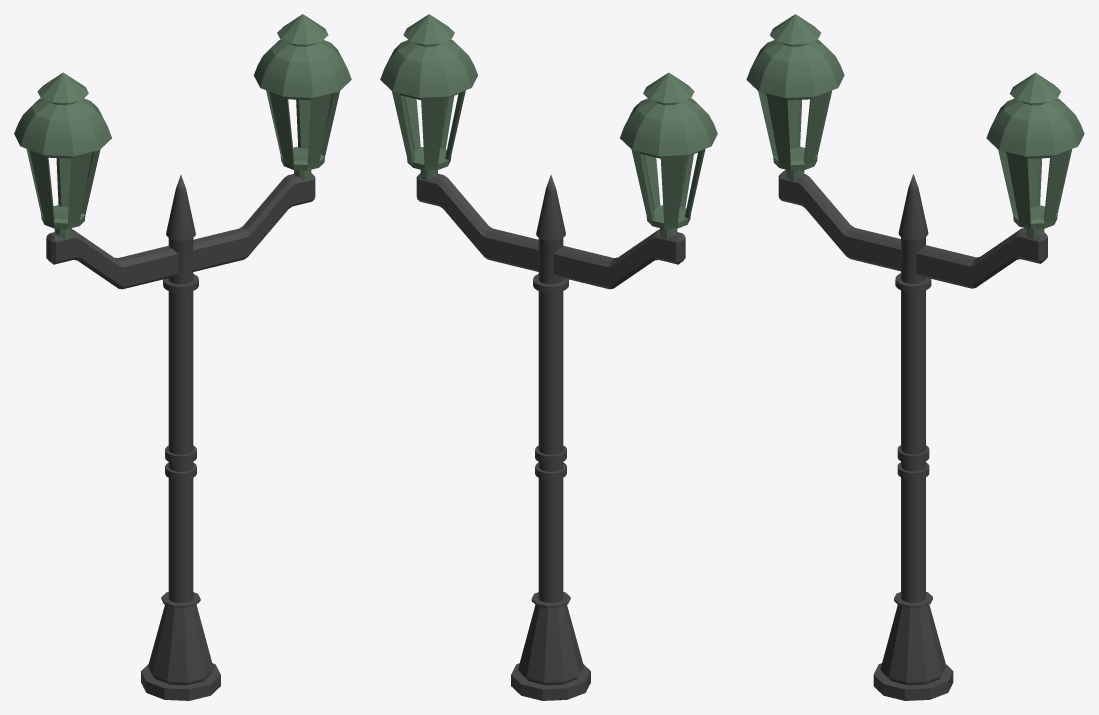
File: Poteaux_.fbx
3 views of the same model, side by side, from view 1: azimuth 30°, elevation 25°; view 2: azimuth 150°, elevation 25°; view 3: azimuth 330°, elevation 25° (orthographic).
Visible parts, largest first — view 1: polySurface4; view 2: polySurface4; view 3: polySurface4.
Part boxes in pixels (x1=…): polySurface4: x1=14, y1=14, x2=351, y2=700; polySurface4: x1=380, y1=14, x2=717, y2=700; polySurface4: x1=746, y1=14, x2=1084, y2=700.
Bounding box in the file's own units: 3.09 × 5.82 × 0.7721.
